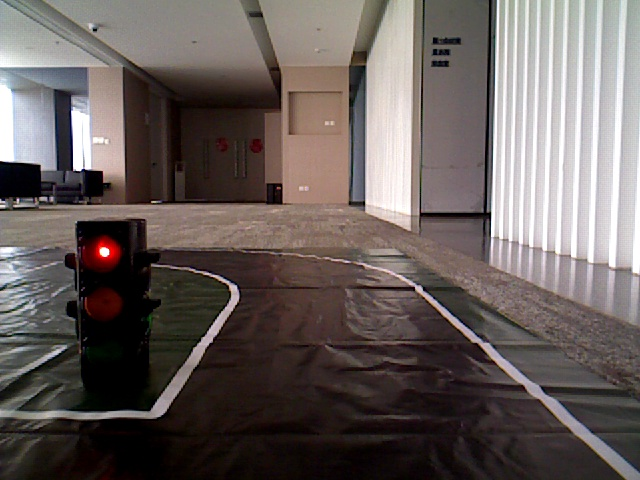red: (75, 226, 137, 387)
